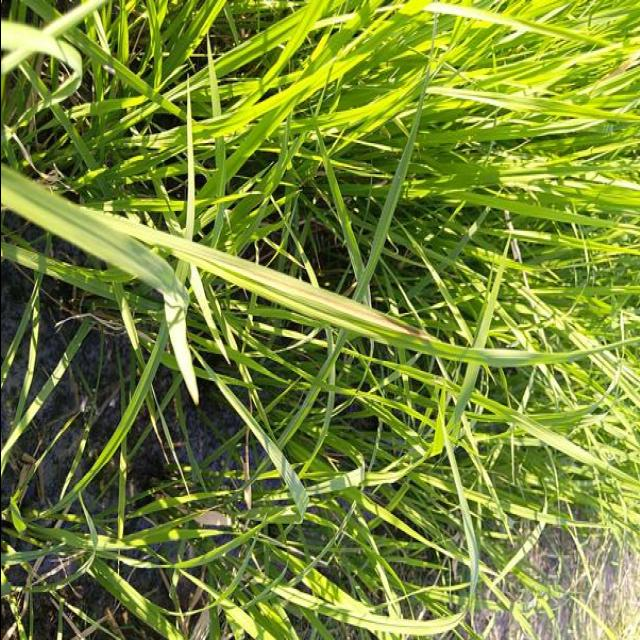Leaf Blight: (144, 232, 553, 361)
